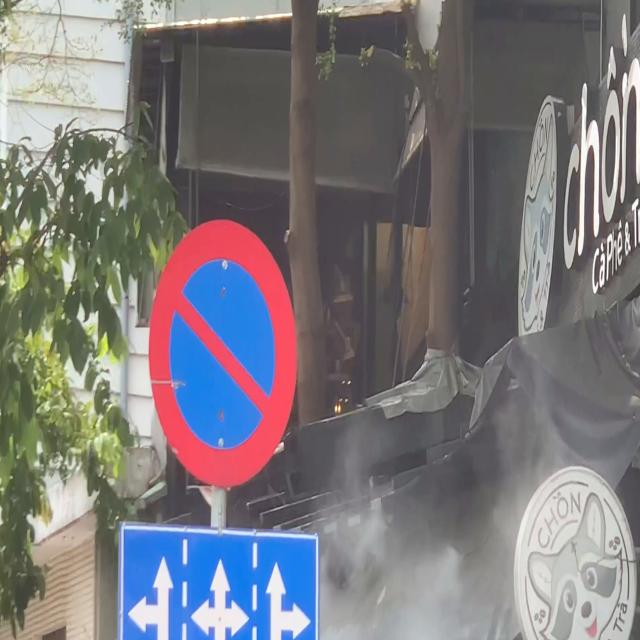Cam do: (148, 218, 298, 490)
